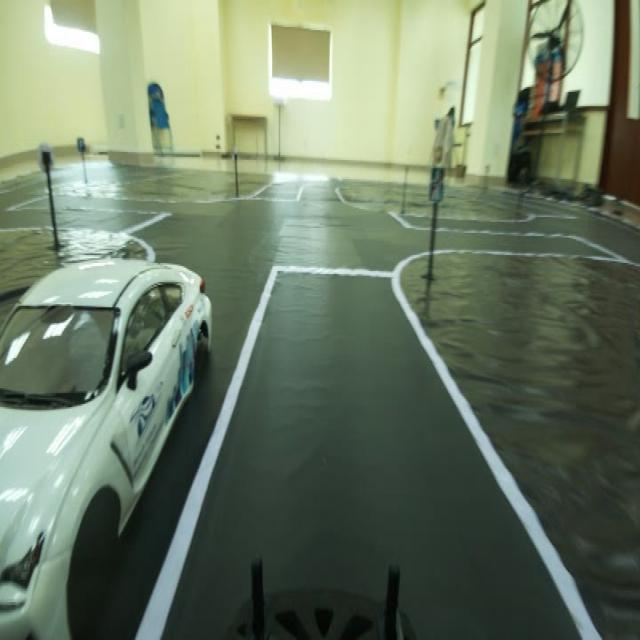car: (2, 164, 213, 625)
highway_exit: (426, 156, 452, 215)
